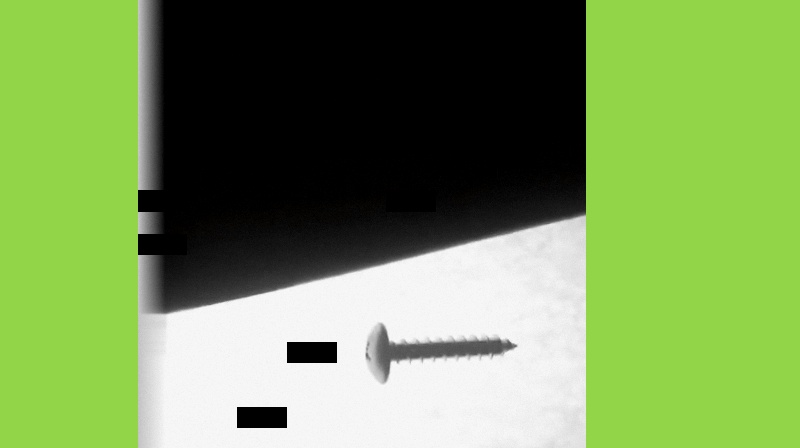S003: (358, 319, 519, 387)
